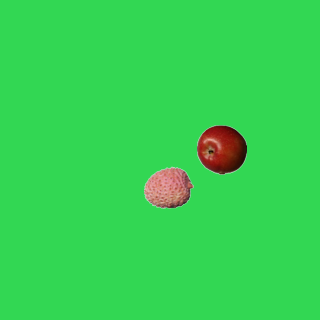Apple Braeburn: (196, 124, 246, 174)
Lychee: (143, 162, 193, 212)
